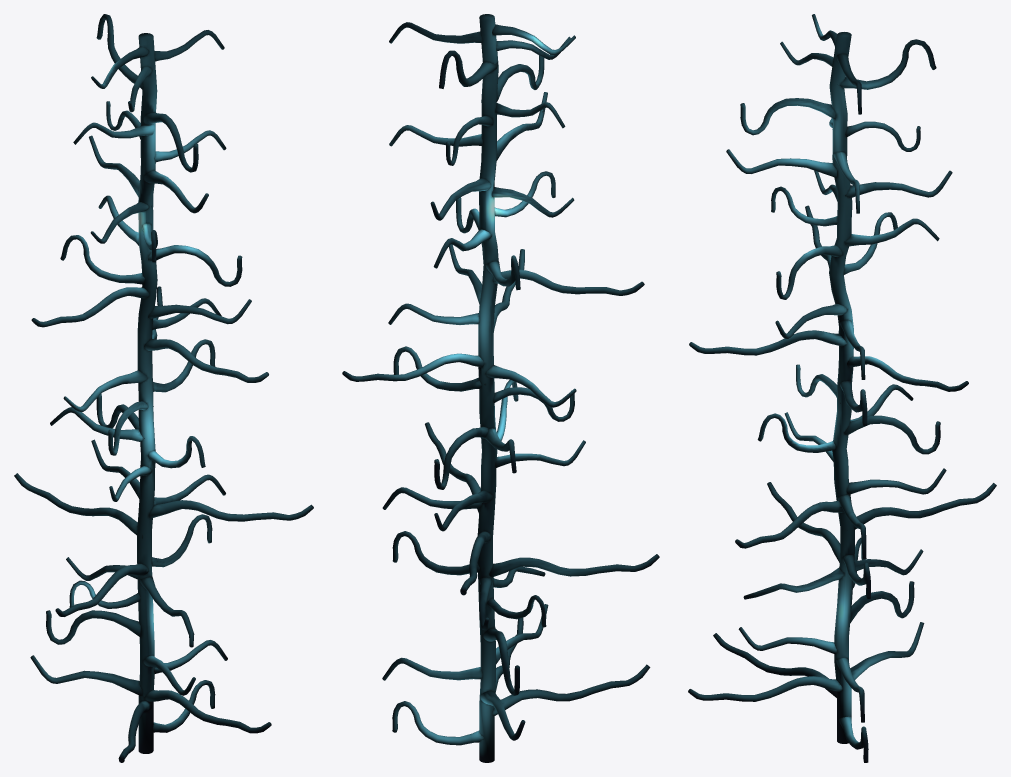
The model's file is bakeAlgue.glb.
3 renders of one model, left to right at view 1: azimuth 30°, elevation 25°; view 2: azimuth 150°, elevation 25°; view 3: azimuth 270°, elevation 25°, orthographic. The views are drawn at different scales.
Visible parts, largest first — view 1: Cylinder.006; view 2: Cylinder.006; view 3: Cylinder.006.
Part boxes in pixels (x1,y1,x2,y2): Cylinder.006: (14, 14, 313, 762); Cylinder.006: (342, 14, 659, 762); Cylinder.006: (688, 14, 996, 762).
Bounding box in the file's own units: 1.81 × 5.01 × 1.98.
1 material, 1 textured.
